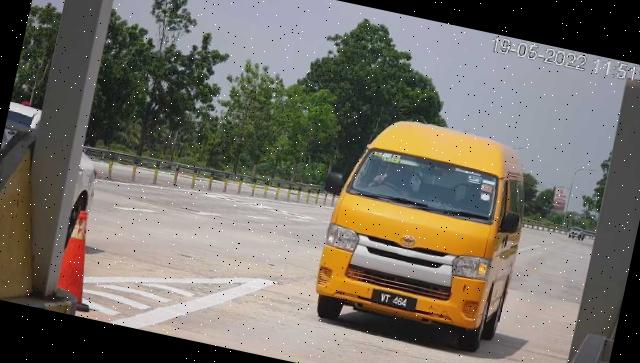License_Plate: (370, 288, 421, 316)
van: (310, 108, 539, 357)
